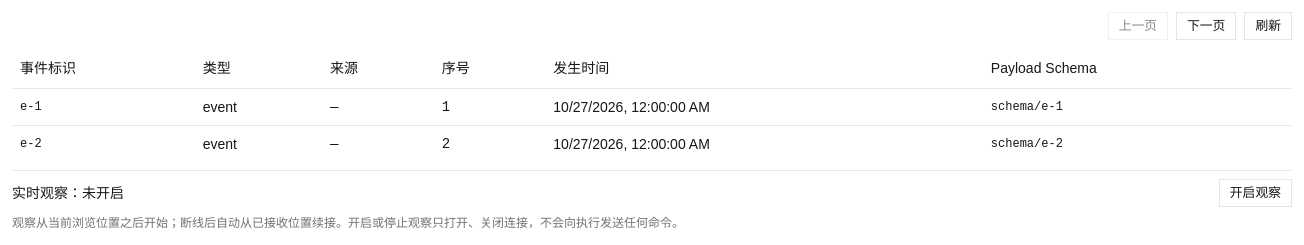
Test: RunEventsPanel live observation › confirms terminal EOF with the Run query and stops reconnecting
Expected: the text "e-1" is shown, [12, 88, 195, 125]
Step 1. Click the button with test id "live-start" → point(1255, 192), box [1219, 178, 1292, 206]
Wait 30000 ms
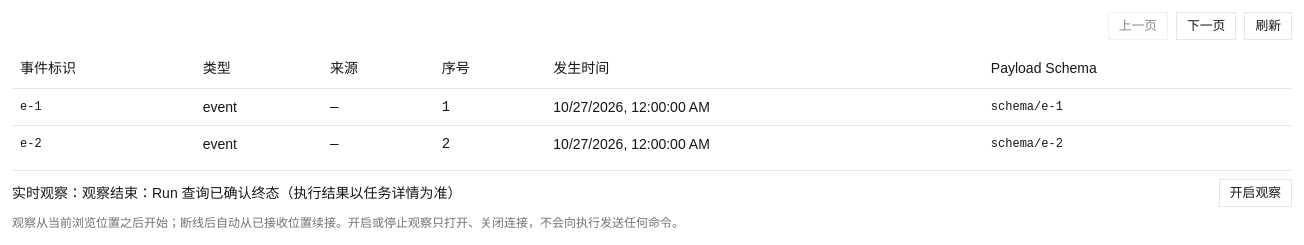
Expected: the text with test id "live-status" does not show "已收到终态事件", [12, 182, 462, 202]
Expected: the text with test id "live-status" shows "观察结束", [82, 184, 462, 200]
